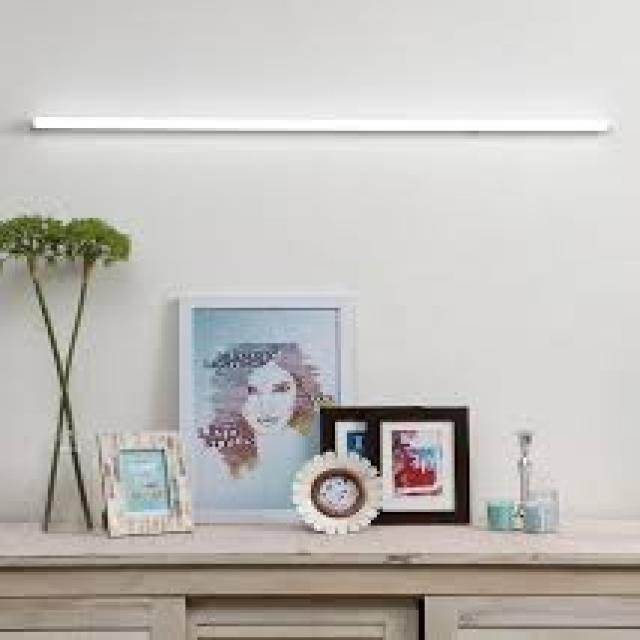tubelight_on: (24, 110, 606, 146)
